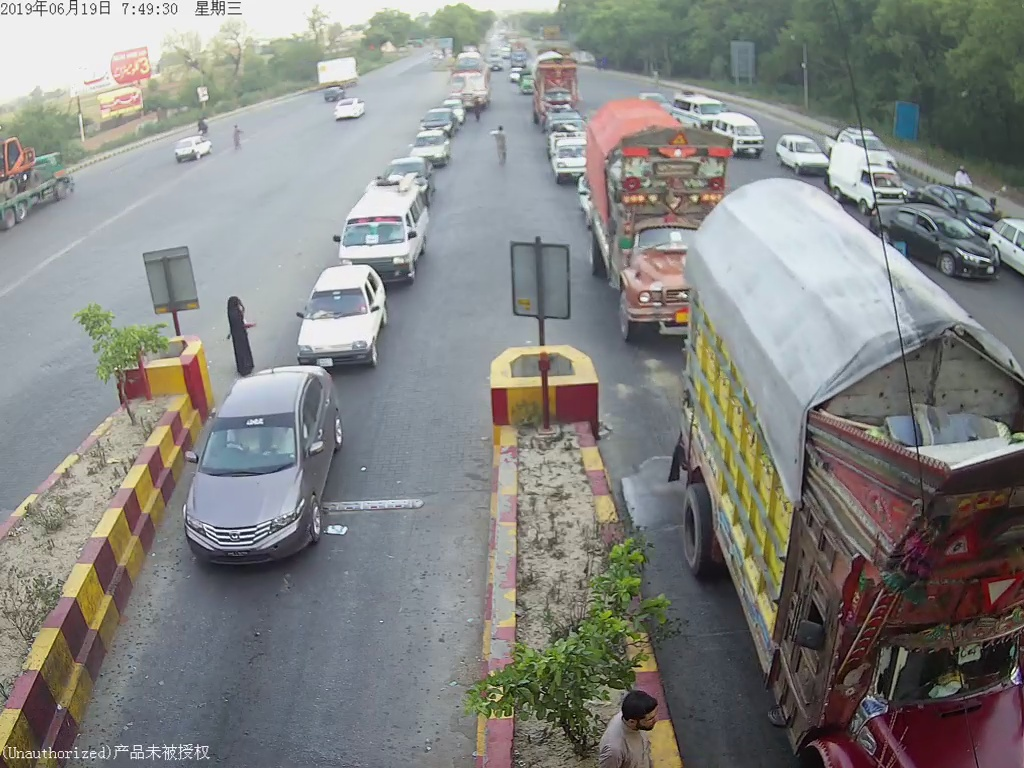Cat-1: (190, 369, 344, 565), (289, 260, 382, 369)
Cat-2: (335, 175, 436, 289)
Cat-4: (583, 96, 723, 339)
